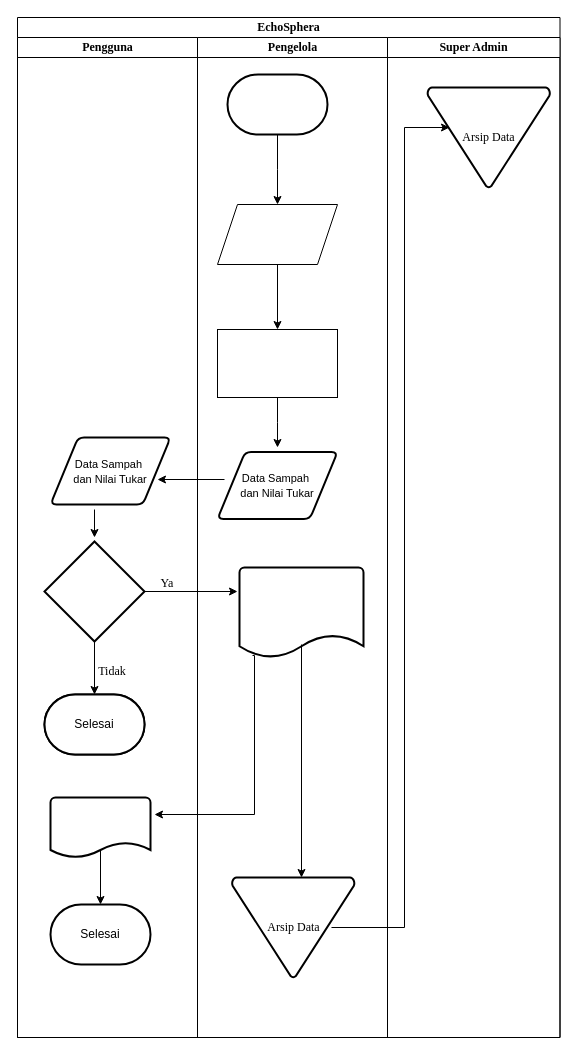
The diagram is 578 pixels wide and 1055 high, and some of its shapes have lost their labels. The centre of each missing label's shape, as x and y in pixels:
Entri data sampah: the point at 277,234
Hitung Nilai Tukar sesuai Berat dan Jenis Sampah: the point at 277,363
Memberikan Uang Sesuai Nilai Tukar: the point at 301,612
Mulai: the point at 277,104
Uang Nilai Tukar: the point at 100,827
User Tukar: the point at 94,591
